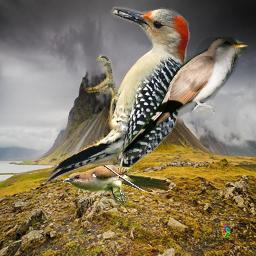Cuckoo: (117, 37, 250, 160), (63, 165, 176, 205)
Woodpecker: (40, 0, 209, 189)
